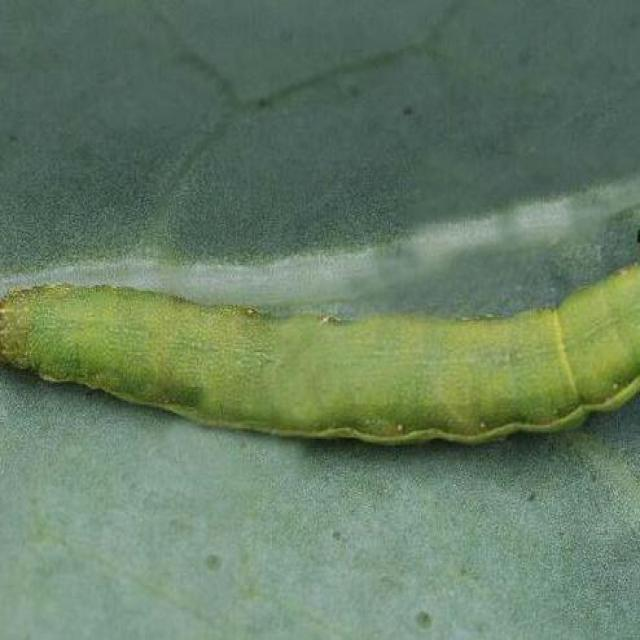BeetArmyWorm-Larva-: (2, 244, 639, 448)
